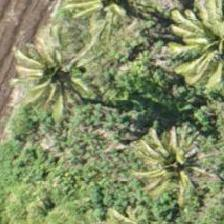coconut_tree: (6, 26, 96, 116), (127, 124, 217, 214), (173, 0, 223, 88), (73, 0, 163, 47)
